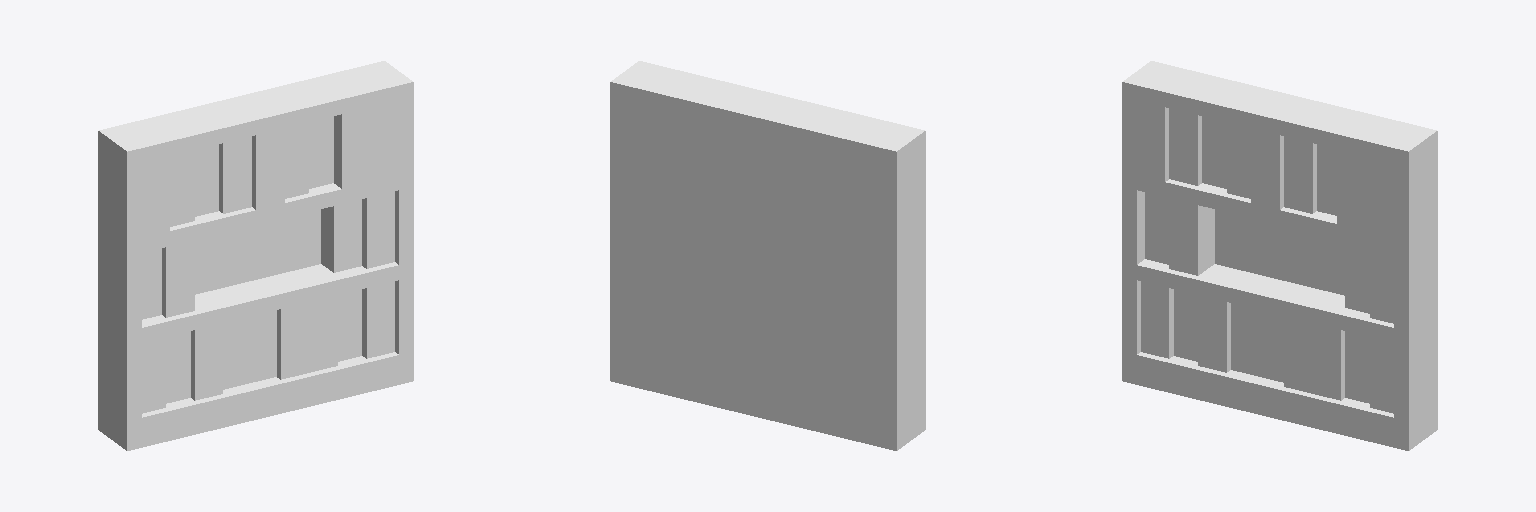
Rendered from Bookshelves.obj.
The picture shows the model from 3 angles: view 1: azimuth 30°, elevation 25°; view 2: azimuth 150°, elevation 25°; view 3: azimuth 330°, elevation 25°; orthographic projection.
Visible parts, largest first — view 1: object 1; view 2: object 1; view 3: object 1.
Boxes of the visible parts, x1=… form: object 1: x1=98, y1=61, x2=413, y2=450; object 1: x1=610, y1=61, x2=925, y2=450; object 1: x1=1122, y1=61, x2=1437, y2=450.
Bounding box in the file's own units: 4 × 4 × 0.7.